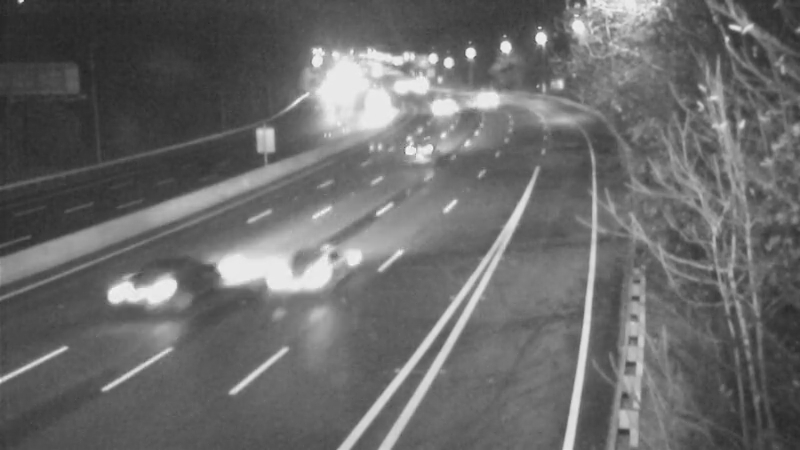vehicle: (266, 237, 346, 317), (111, 254, 191, 334), (462, 72, 512, 122), (412, 82, 462, 132), (398, 120, 448, 170), (346, 87, 396, 137)
